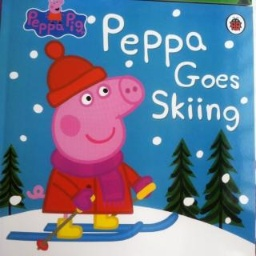Peppa: (25, 39, 159, 249)
